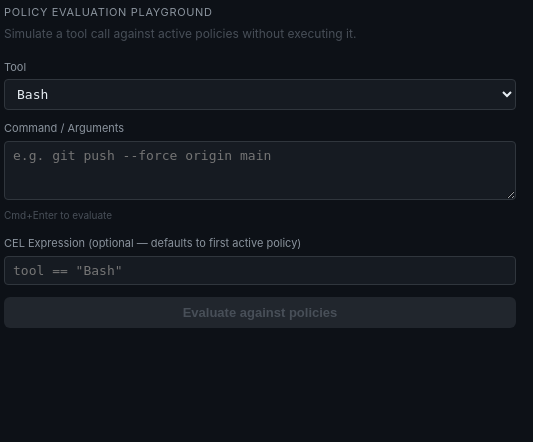
it: PolicyPlayground — offline error state › clears error and shows result on successful fetch
Step 1. Type "echo hello" into the text box with placeholder "e.g. git push --force origin main" → {"x": 260, "y": 170}, box top-left (4, 140), bottom-right (516, 200)
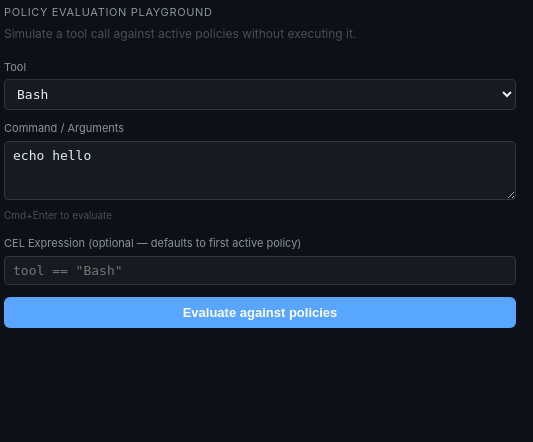
Step 2. Click the button "Evaluate against policies" → {"x": 260, "y": 312}, box top-left (4, 296), bottom-right (516, 328)
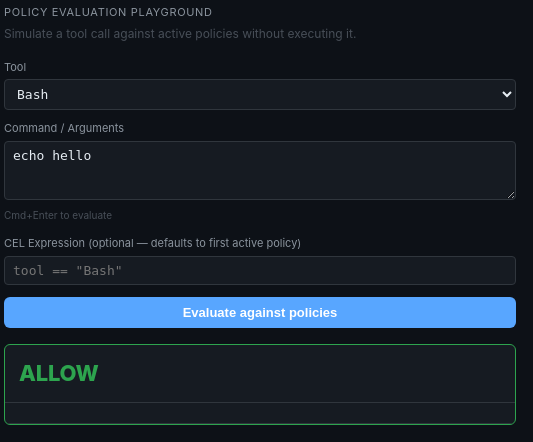
Expected: the text "ALLOW" is shown, top-left (19, 360), bottom-right (99, 386)
